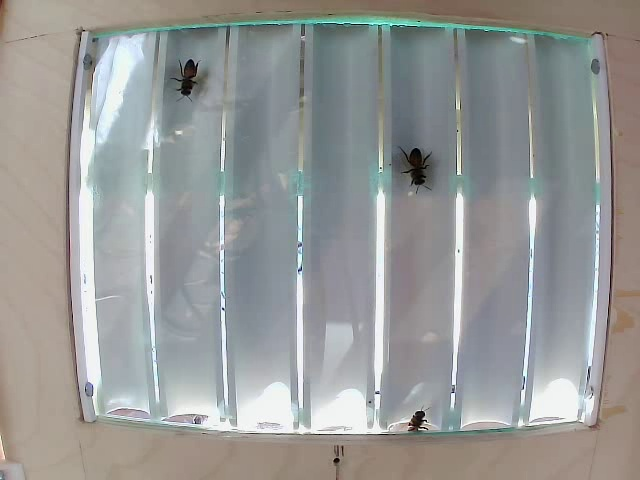bee: (171, 55, 213, 104), (405, 138, 431, 191)
